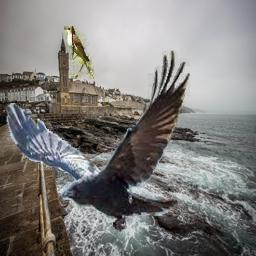Crow: (5, 49, 190, 232)
Cuckoo: (64, 26, 94, 79)
